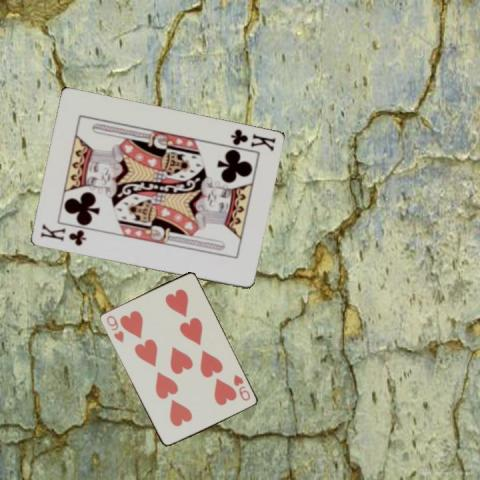9h: (102, 312, 124, 344), (230, 371, 251, 402)
Kc: (38, 221, 88, 248), (227, 126, 277, 153)
